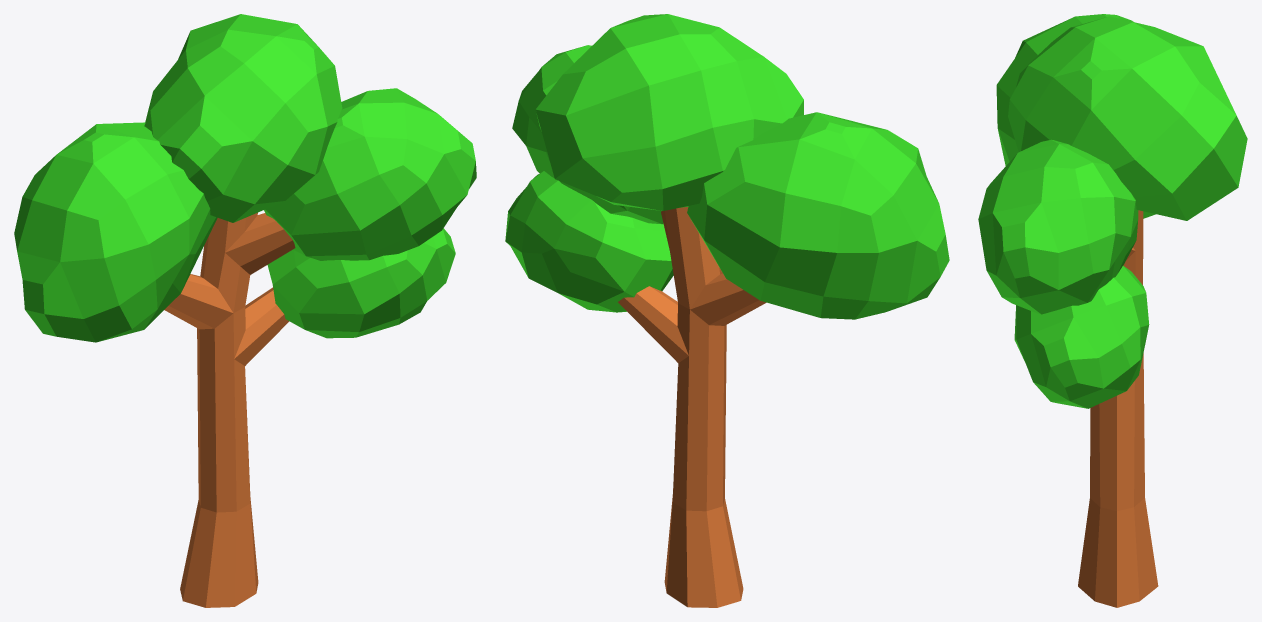
Rendered from trees_8.fbx.
3 renders of one model, left to right at view 1: azimuth 30°, elevation 25°; view 2: azimuth 150°, elevation 25°; view 3: azimuth 270°, elevation 25°, orthographic. The views are drawn at different scales.
Parts seen in each view (by area): view 1: 8; view 2: 8; view 3: 8.
Part boxes in pixels (left/top/right/bottom): 8: left=14, top=14, right=476, bottom=607; 8: left=505, top=14, right=949, bottom=607; 8: left=978, top=14, right=1247, bottom=607.
Bounding box in the file's own units: 3.63 × 4.49 × 1.91.
